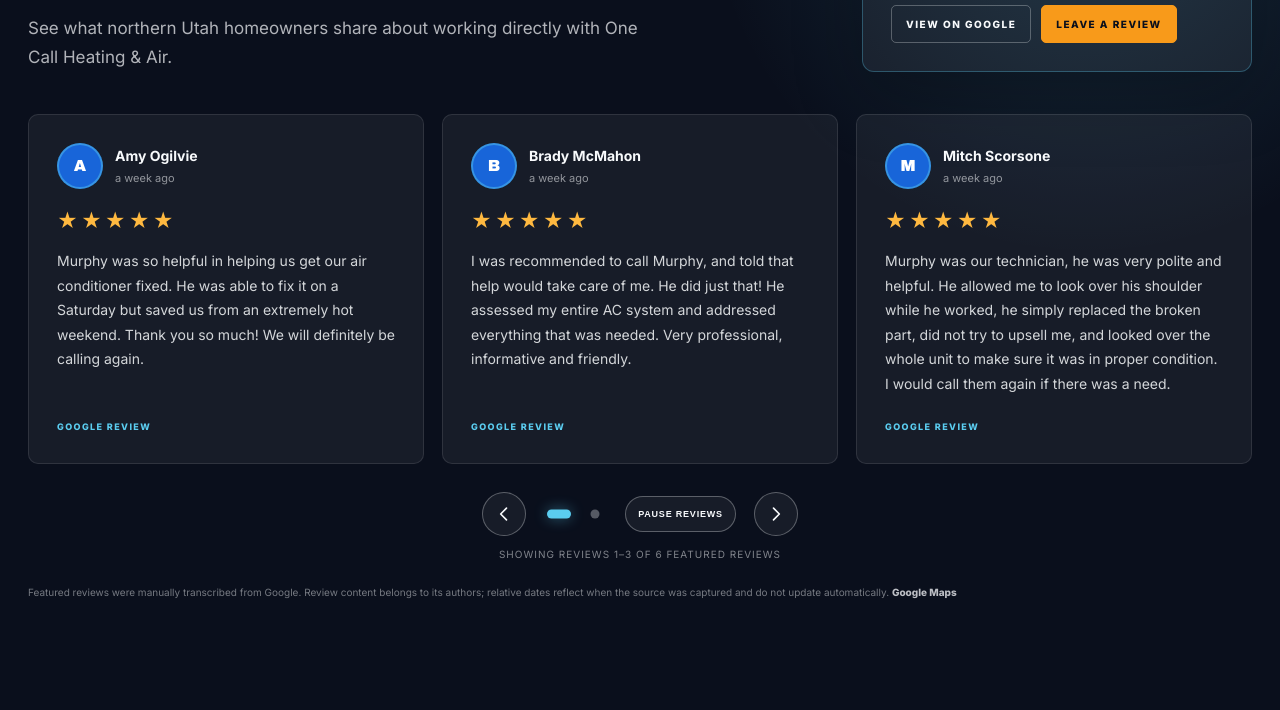
Scenario: GoogleReviewsSection carousel › keeps automatic advance paused until the user resumes it
(page scrolled)
Click the button "Pause reviews" at [680, 514], box 625,496 -> 736,532
Wait 12000 ms
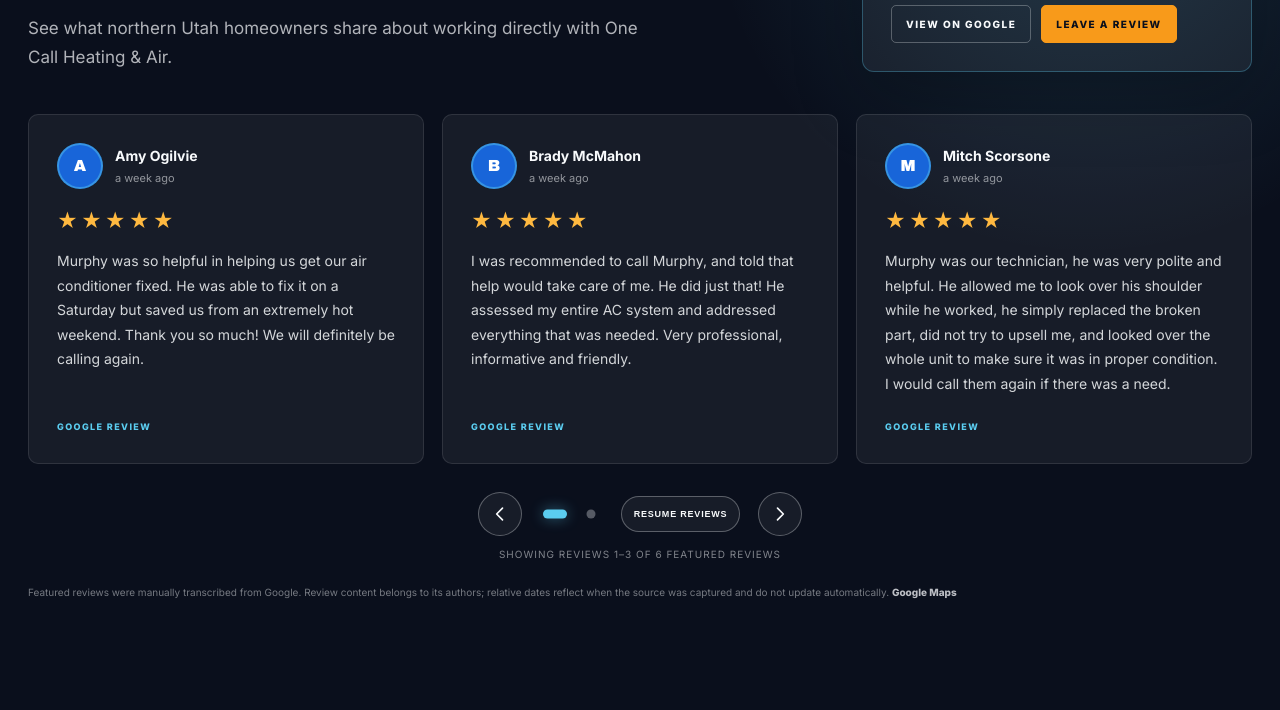
Check: the text "Showing reviews 1–3 of 6 featured reviews" is shown, box 499,548 -> 781,560
Check: the button named "Pause reviews" is pressed
Click the button "Resume reviews" at [680, 514], box 621,496 -> 740,532
Wait 6000 ms
(page scrolled)
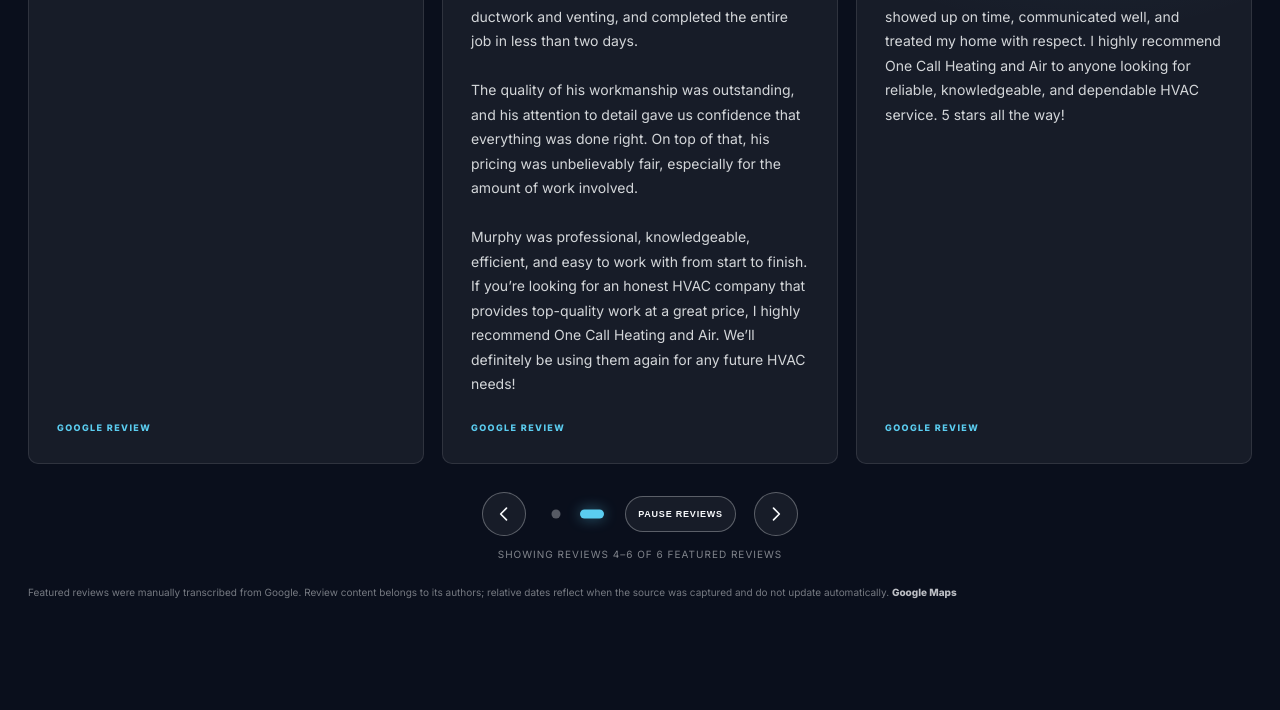
Check: the text "Showing reviews 4–6 of 6 featured reviews" is shown, box 498,548 -> 782,560
